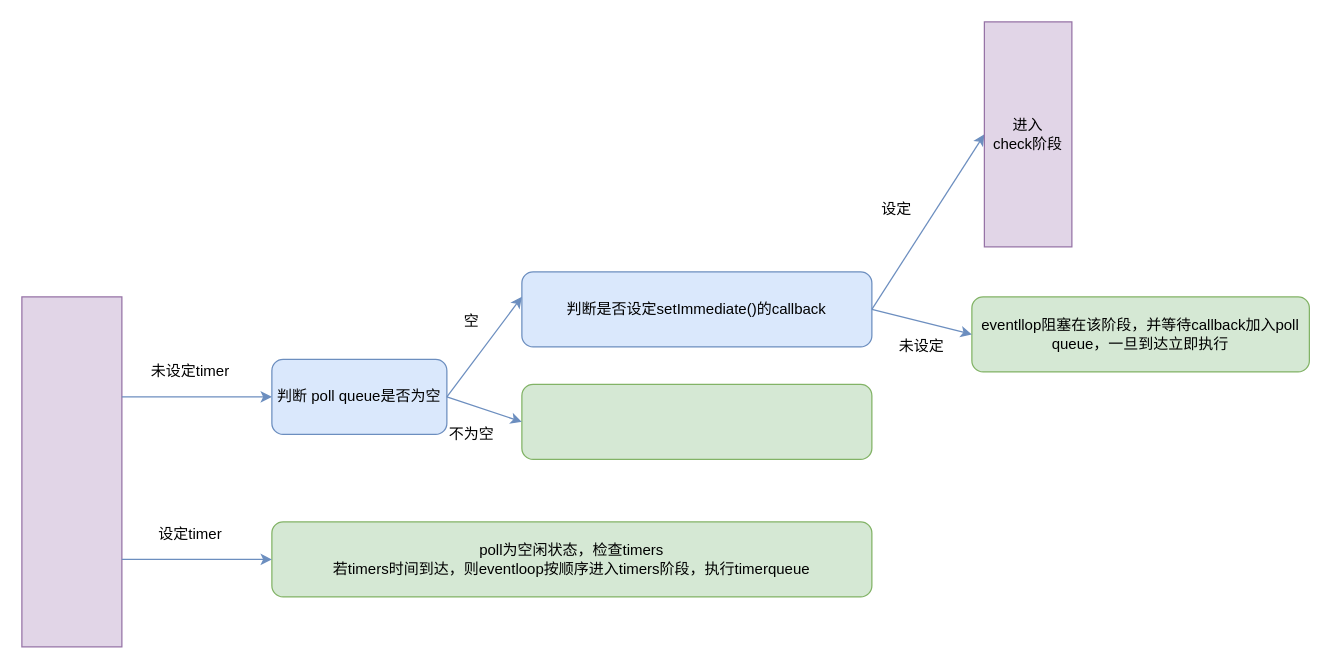
The diagram is 1331 pixels wide and 669 high, and some of its shapes have lost their labels. The shapes that lost their labels are listed below. From the top down, each one's centre as x and y in pixels, then its label:
(x=696, y=421): eventloop同步执行queue里的callback，直到queue为空，或执行的callbacks达到系统上限
(x=71, y=471): 进入 poll阶段
